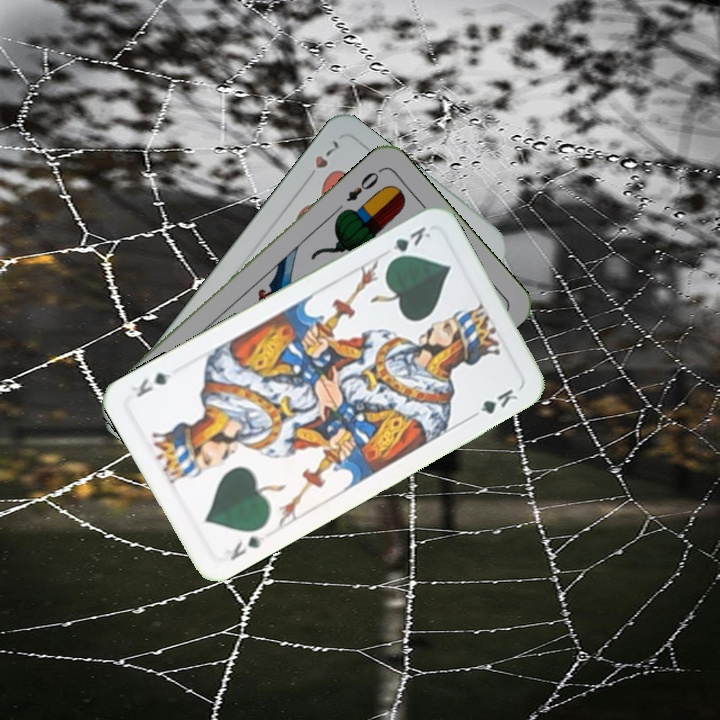EO: (342, 168, 382, 205)
GK: (384, 222, 433, 265), (226, 530, 267, 564)
H7: (303, 135, 342, 185)
